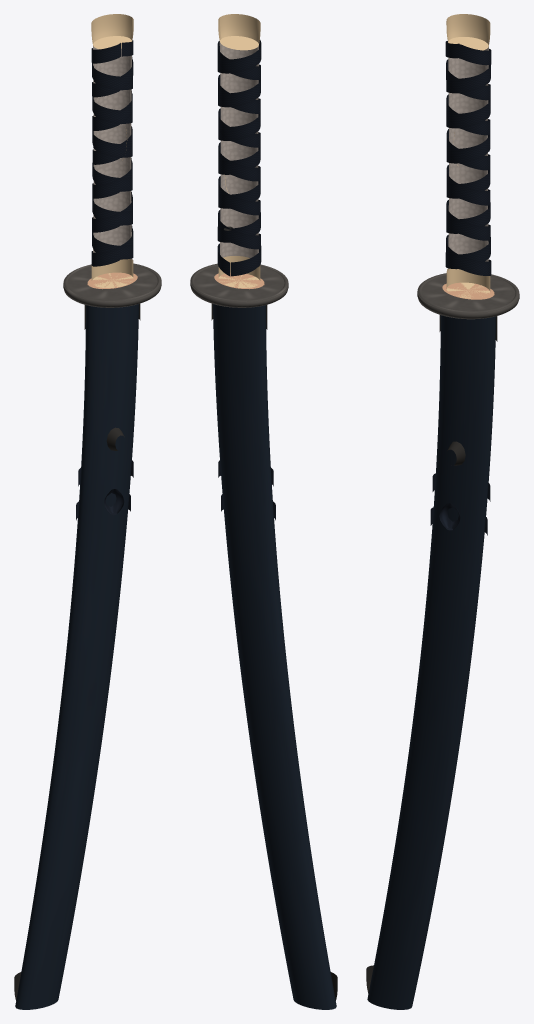
Rendered from wakizashi.glb.
3 views of the same model, side by side, from view 1: azimuth 30°, elevation 25°; view 2: azimuth 150°, elevation 25°; view 3: azimuth 330°, elevation 25° (orthographic). The views are drawn at different scales.
Visible parts, largest first — view 1: wakizashi; view 2: wakizashi; view 3: wakizashi.
Boxes of the visible parts, x1,y1,x2,y2 form: wakizashi: [14, 14, 161, 1009]; wakizashi: [190, 14, 337, 1009]; wakizashi: [366, 14, 519, 1009].
Size of the model in its own units: 0.1107 by 0.7245 by 0.0641.
Materials: 8 (5 with a texture image).
